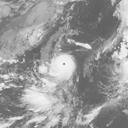cyclone: (46, 53, 77, 80)
